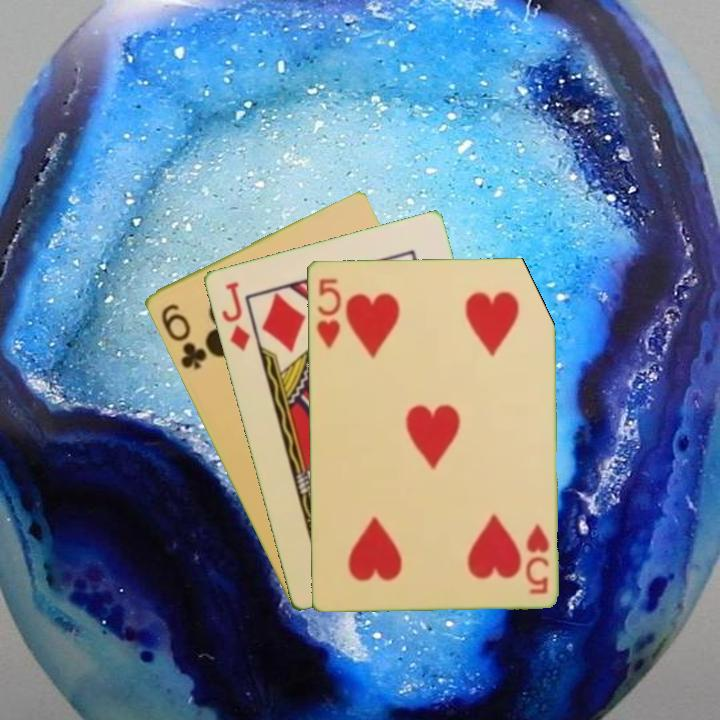5h: (312, 274, 344, 351), (522, 520, 552, 596)
6c: (157, 300, 210, 373)
Jd: (217, 278, 253, 354)
